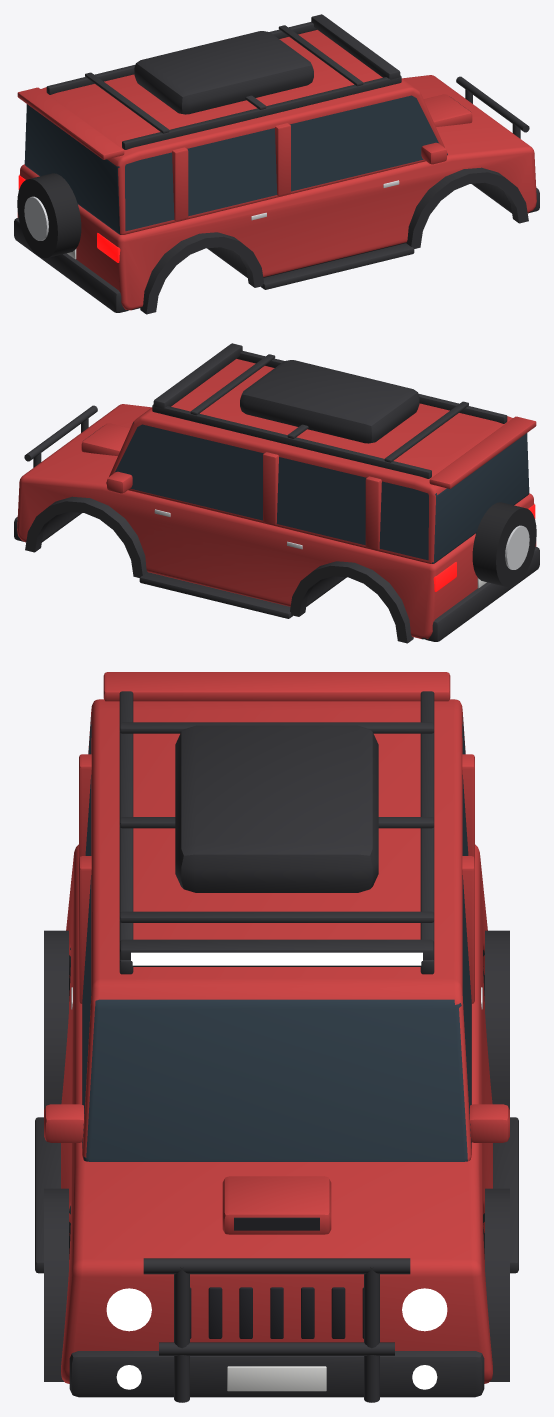
The model's file is suv_jipe.glb.
3 views of the same model, one above another, from view 1: azimuth 30°, elevation 25°; view 2: azimuth 150°, elevation 25°; view 3: azimuth 270°, elevation 25° (orthographic). The views are drawn at different scales.
Visible parts, largest first — view 1: cabine, carroceria, bagageiro, estepe, paralama-1.4-1, paralama1.4-1, rack_trilho, asa, parachoque_t, estribo, led_suporte, coluna1 (+9 smaller); view 2: cabine, carroceria, bagageiro, estepe, paralama-1.41, paralama1.41, rack_trilho.001, asa, parachoque_t, estribo.001, led_suporte, coluna1 (+9 smaller); view 3: cabine, carroceria, bagageiro, parachoque_d, asa, tomada, led_suporte, qm_barra, paralama1.4-1, paralama1.41, paralama-1.4-1, paralama-1.41 (+19 smaller).
Part boxes in pixels (bbox=[...]): cabine: bbox=[24, 30, 447, 234]; carroceria: bbox=[17, 75, 536, 310]; bagageiro: bbox=[134, 31, 313, 114]; estepe: bbox=[17, 173, 81, 258]; paralama-1.4-1: bbox=[140, 232, 263, 314]; paralama1.4-1: bbox=[406, 167, 528, 248]; rack_trilho: bbox=[122, 75, 401, 149]; asa: bbox=[17, 87, 124, 159]; parachoque_t: bbox=[14, 217, 128, 312]; estribo: bbox=[261, 243, 414, 289]; led_suporte: bbox=[311, 14, 400, 79]; coluna1: bbox=[172, 147, 188, 220]; cabine: bbox=[106, 359, 529, 563]; carroceria: bbox=[17, 404, 536, 639]; bagageiro: bbox=[240, 360, 419, 443]; estepe: bbox=[472, 502, 536, 587]; paralama-1.41: bbox=[290, 561, 413, 643]; paralama1.41: bbox=[25, 496, 147, 577]; rack_trilho.001: bbox=[152, 404, 431, 478]; asa: bbox=[429, 416, 536, 488]; parachoque_t: bbox=[425, 546, 539, 641]; estribo.001: bbox=[139, 572, 292, 618]; led_suporte: bbox=[153, 343, 242, 408]; coluna1: bbox=[365, 476, 381, 549]; cabine: bbox=[82, 699, 471, 1161]; carroceria: bbox=[61, 844, 492, 1383]; bagageiro: bbox=[175, 725, 378, 892]; parachoque_d: bbox=[69, 1351, 484, 1397]; asa: bbox=[103, 672, 450, 701]; tomada: bbox=[222, 1176, 331, 1234]; led_suporte: bbox=[119, 939, 434, 966]; qm_barra: bbox=[143, 1258, 410, 1274]; paralama1.4-1: bbox=[44, 1188, 68, 1381]; paralama1.41: bbox=[485, 1188, 509, 1381]; paralama-1.4-1: bbox=[44, 930, 68, 1109]; paralama-1.41: bbox=[485, 930, 509, 1109].
Bounding box in the file's own units: 4.71 × 1.77 × 2.14.
